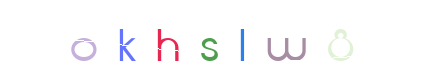8: (237, 0, 317, 80)
H: (127, 0, 207, 80)
K: (125, 0, 205, 80)
L: (183, 0, 263, 80)
O: (94, 0, 174, 80)
S: (169, 0, 249, 80)
W: (234, 0, 314, 80)
